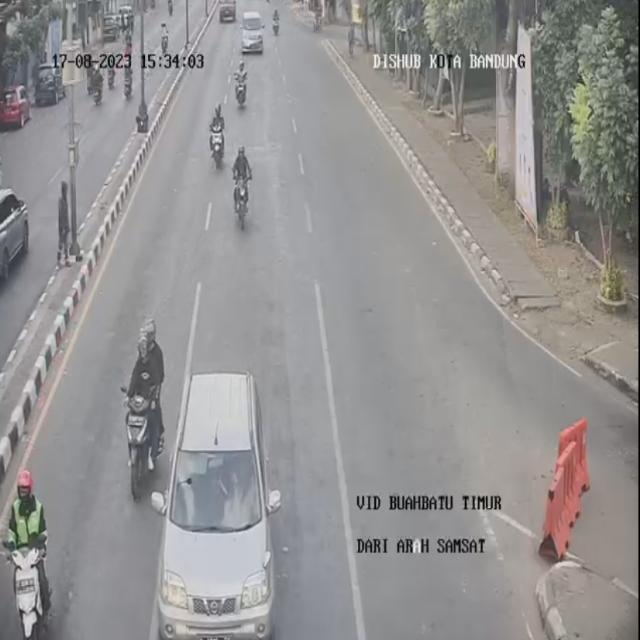cars: (161, 366, 288, 640), (527, 563, 640, 639), (240, 6, 267, 55)
motorcycle: (120, 316, 172, 493), (3, 464, 55, 640), (232, 142, 260, 230), (208, 99, 230, 171), (233, 57, 253, 115), (270, 6, 282, 40)
truck: (216, 0, 237, 20)
